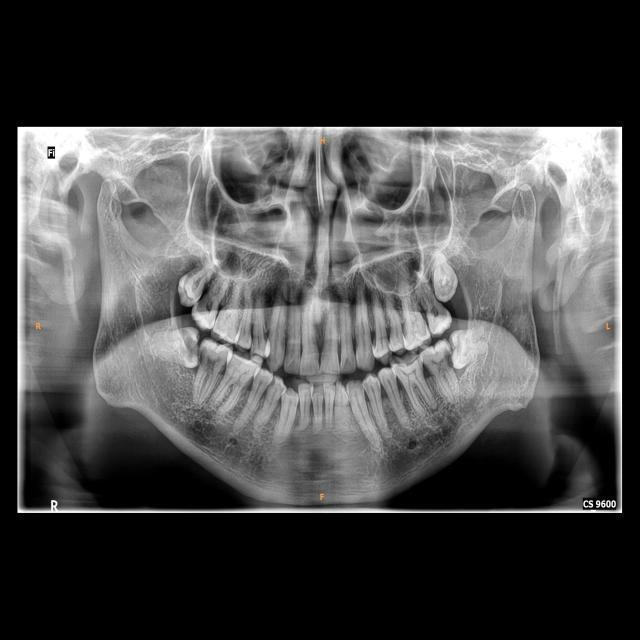dentin-curugu: (197, 289, 217, 316), (183, 332, 200, 363), (438, 347, 457, 373), (197, 347, 215, 369), (261, 324, 272, 346)
